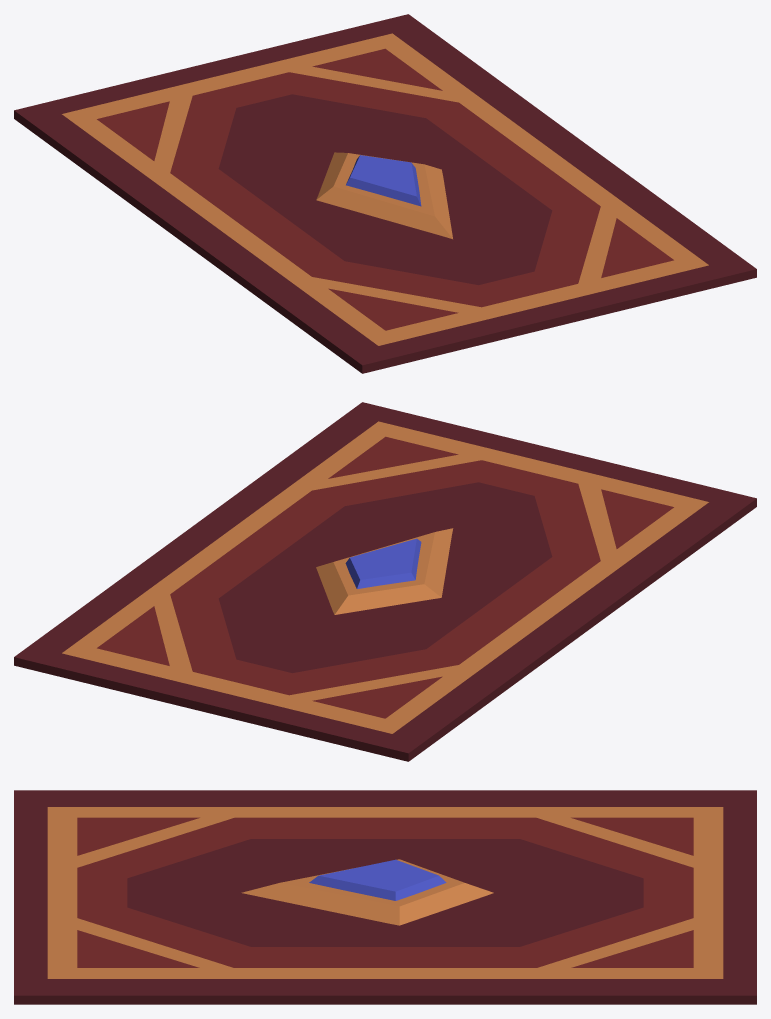
File: Card_02.fbx
3 renders of one model, top to bottom at view 1: azimuth 30°, elevation 25°; view 2: azimuth 150°, elevation 25°; view 3: azimuth 270°, elevation 25°, orthographic. The views are drawn at different scales.
Visible parts, largest first — view 1: Card_02; view 2: Card_02; view 3: Card_02.
Boxes of the visible parts, bbox=[...] form: Card_02: bbox=[14, 14, 756, 373]; Card_02: bbox=[14, 402, 756, 761]; Card_02: bbox=[14, 790, 756, 1004].
Size of the model in its own units: 0.1076 by 0.00644 by 0.1646.
